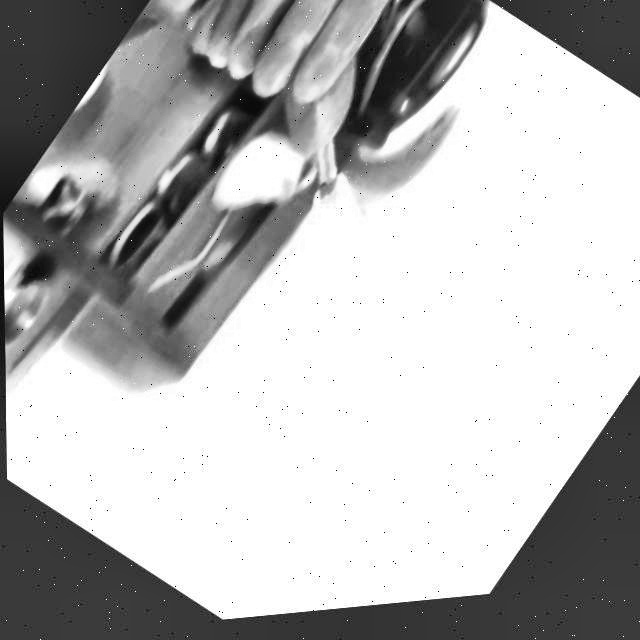Fire: (290, 163, 408, 283)
